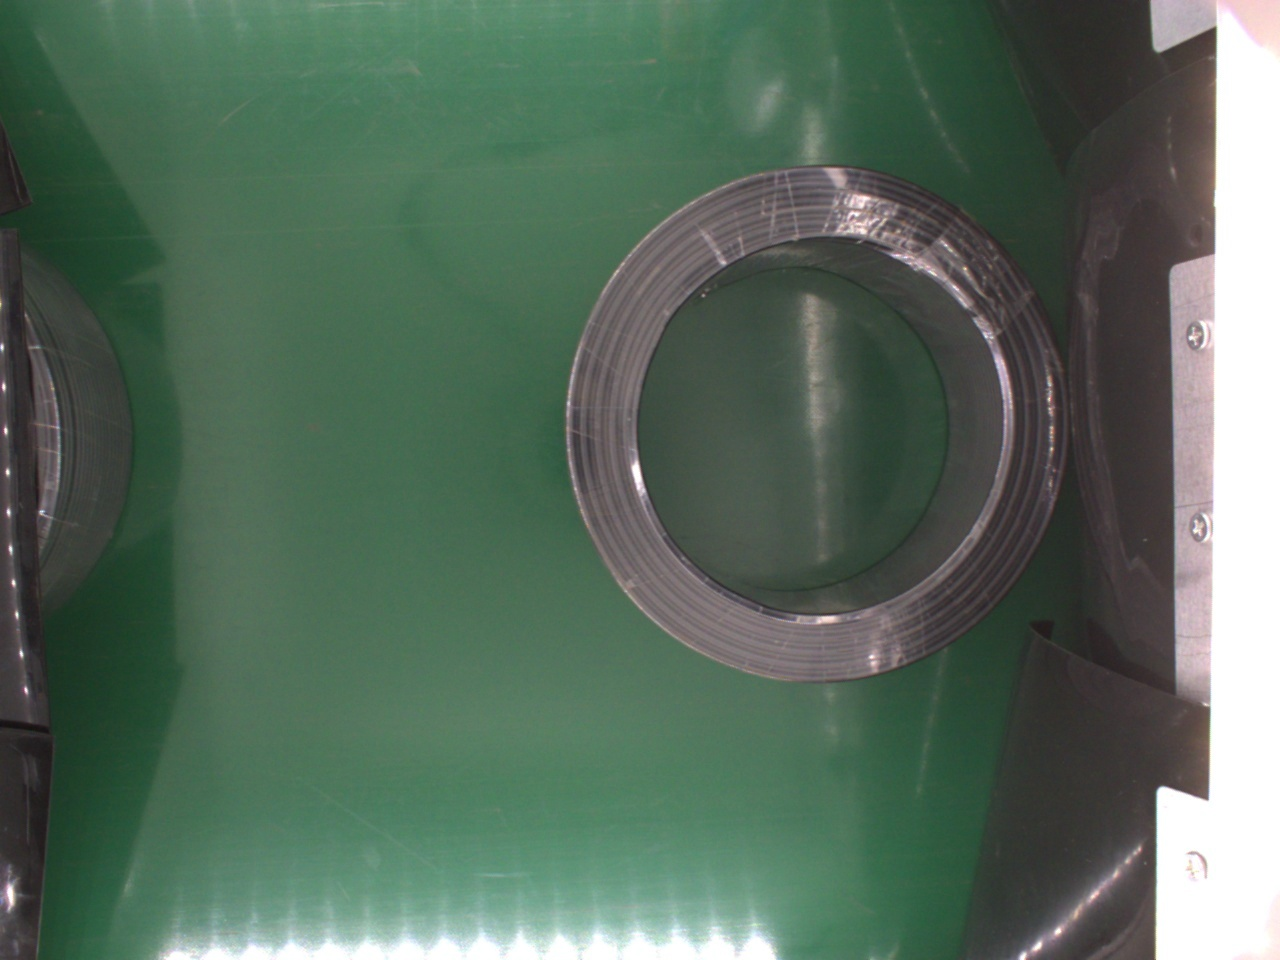black: (562, 170, 1065, 682), (15, 248, 143, 609)
